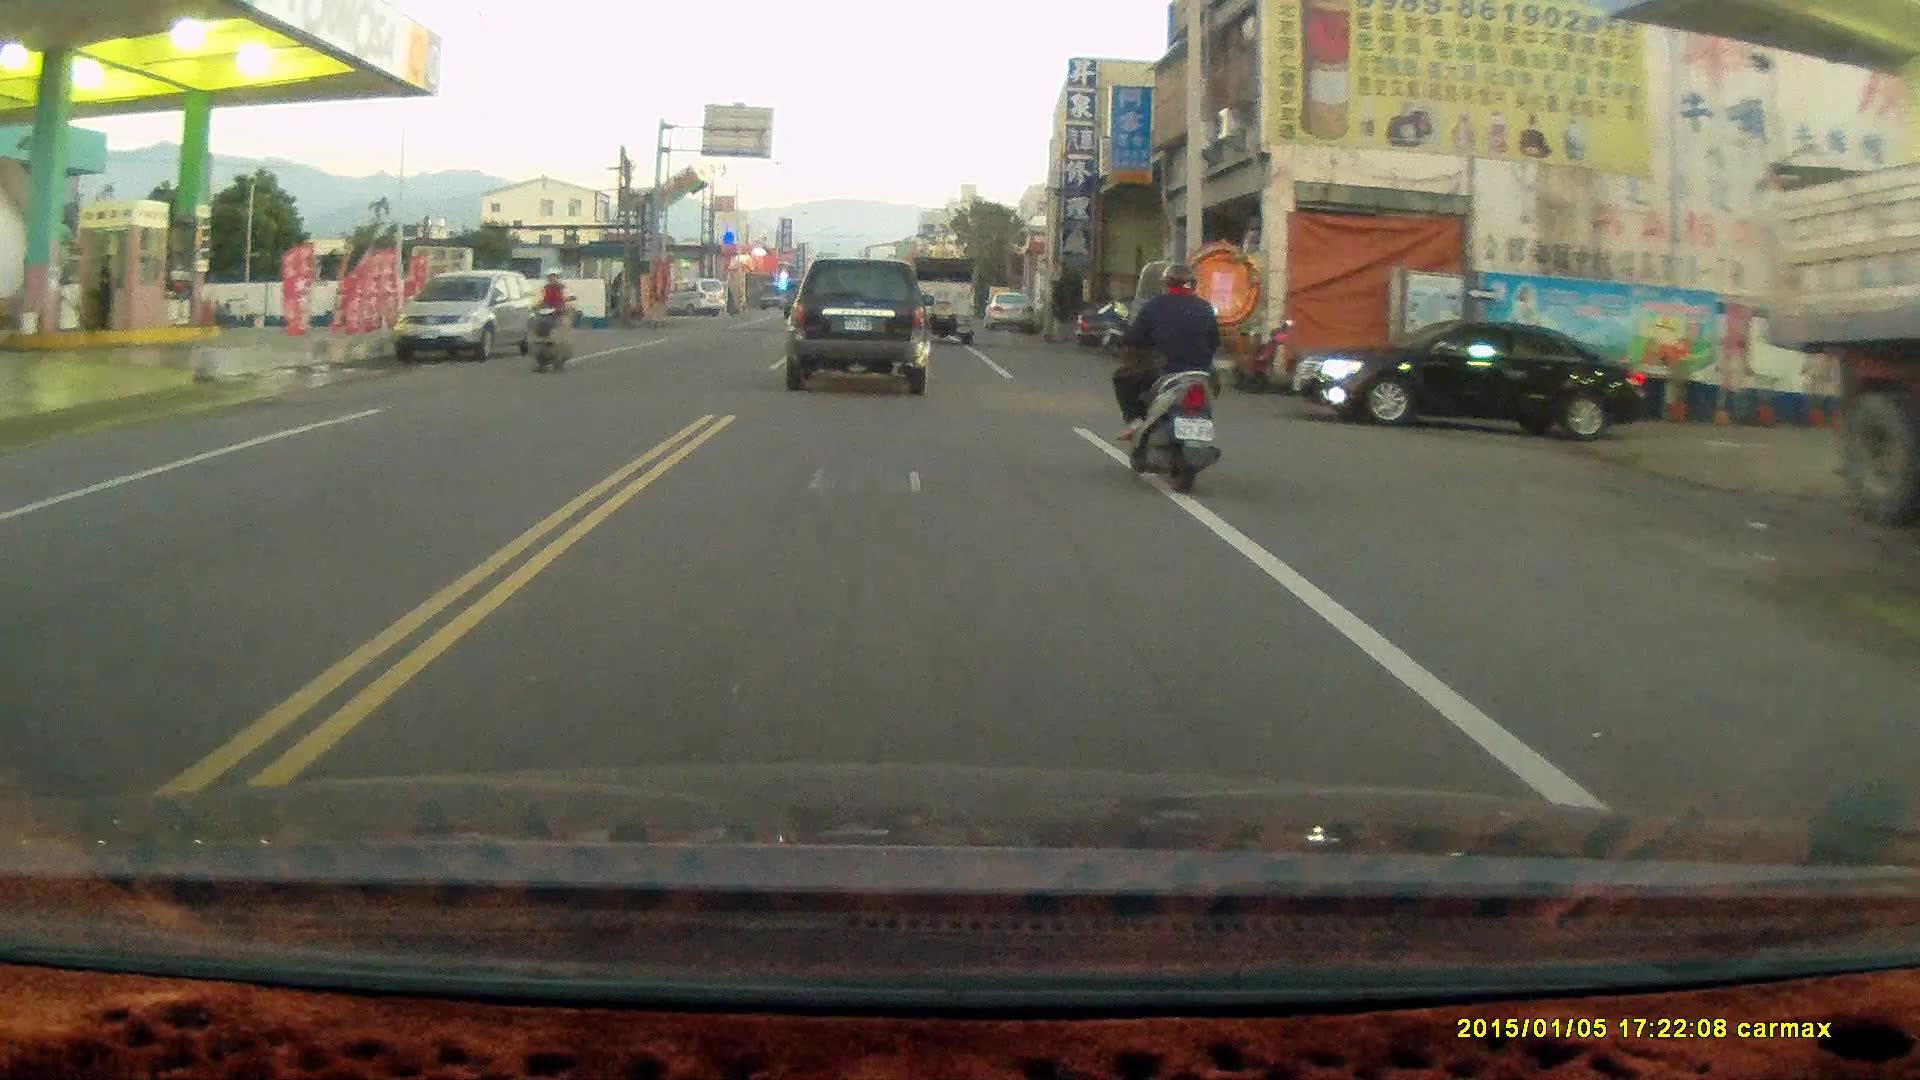rider: (1107, 260, 1219, 495), (526, 267, 570, 370)
vehicle: (1756, 127, 1920, 532), (1292, 323, 1661, 444), (790, 256, 938, 395), (392, 270, 535, 369), (894, 253, 979, 346)
